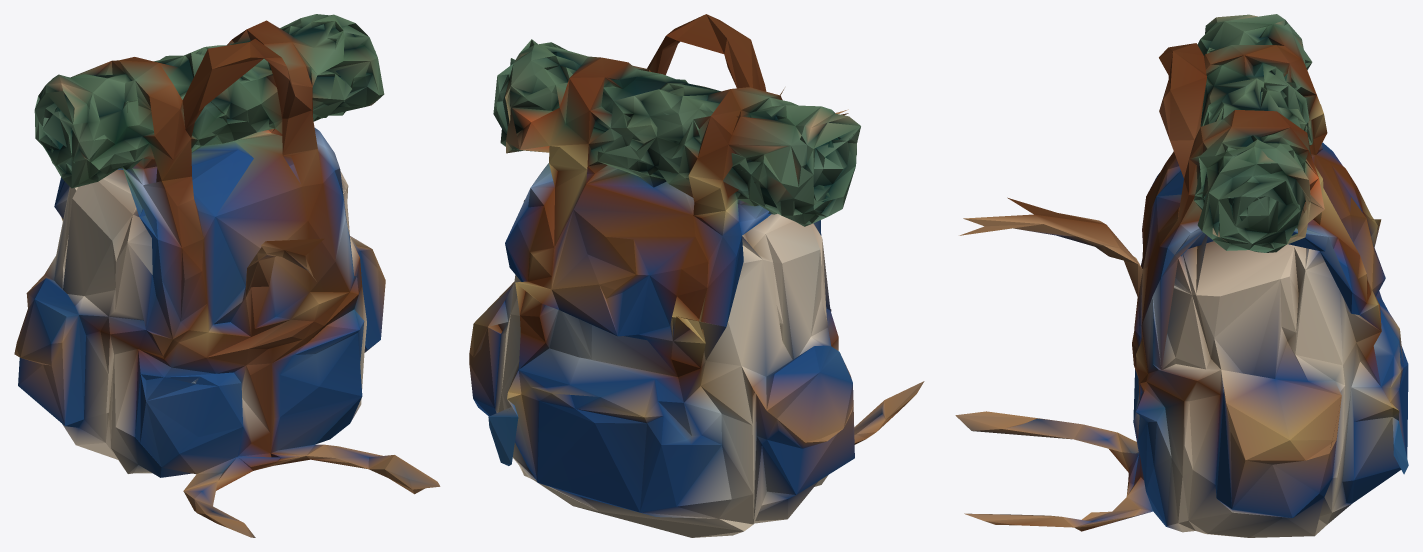
The model's file is fishpack.glb.
3 renders of one model, left to right at view 1: azimuth 30°, elevation 25°; view 2: azimuth 150°, elevation 25°; view 3: azimuth 270°, elevation 25°, orthographic. The views are drawn at different scales.
Bounding box in the file's own units: 1.27 × 1.49 × 1.35.
